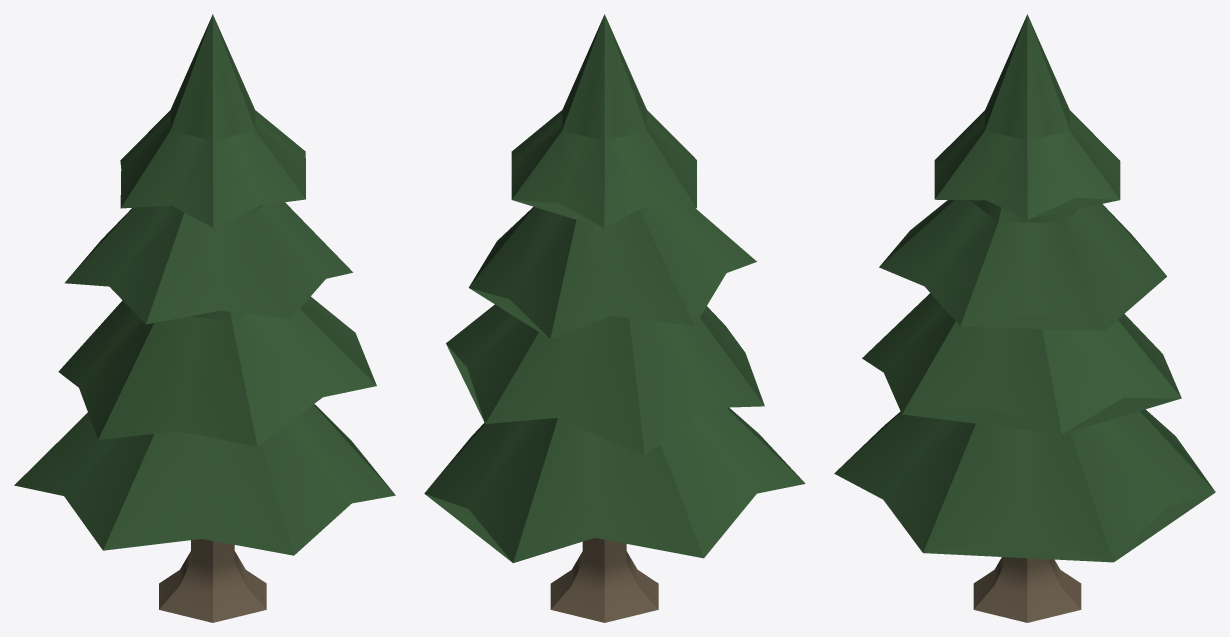
Rendered from pinetree.fbx.
3 views of the same model, side by side, from view 1: azimuth 30°, elevation 25°; view 2: azimuth 150°, elevation 25°; view 3: azimuth 270°, elevation 25° (orthographic).
Visible parts, largest first — view 1: polySurface6, polySurface5, polySurface4, polySurface3, polySurface1; view 2: polySurface6, polySurface5, polySurface4, polySurface3, polySurface1; view 3: polySurface6, polySurface5, polySurface4, polySurface3, polySurface1.
Boxes of the visible parts, left/top/right/bottom form: polySurface6: left=14, top=404, right=395, bottom=555; polySurface5: left=58, top=296, right=376, bottom=446; polySurface4: left=64, top=202, right=352, bottom=324; polySurface3: left=120, top=14, right=305, bottom=227; polySurface1: left=159, top=539, right=266, bottom=622; polySurface6: left=424, top=407, right=805, bottom=563; polySurface5: left=446, top=304, right=764, bottom=455; polySurface4: left=468, top=206, right=756, bottom=338; polySurface3: left=511, top=14, right=696, bottom=228; polySurface1: left=550, top=538, right=658, bottom=622; polySurface6: left=834, top=409, right=1215, bottom=562; polySurface5: left=862, top=293, right=1181, bottom=434; polySurface4: left=879, top=200, right=1166, bottom=330; polySurface3: left=934, top=14, right=1120, bottom=219; polySurface1: left=973, top=557, right=1081, bottom=622.
Size of the model in its own units: 4.89 by 9.17 by 5.44.
